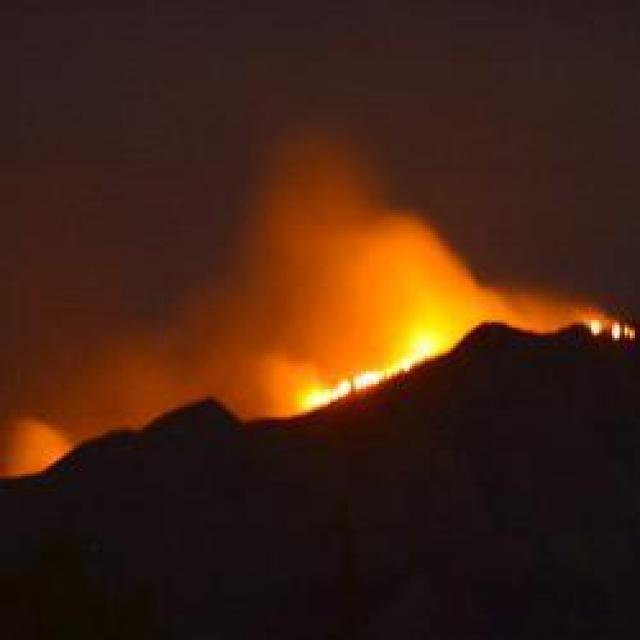Fire: (252, 281, 492, 433)
Smoke: (0, 1, 634, 297)
